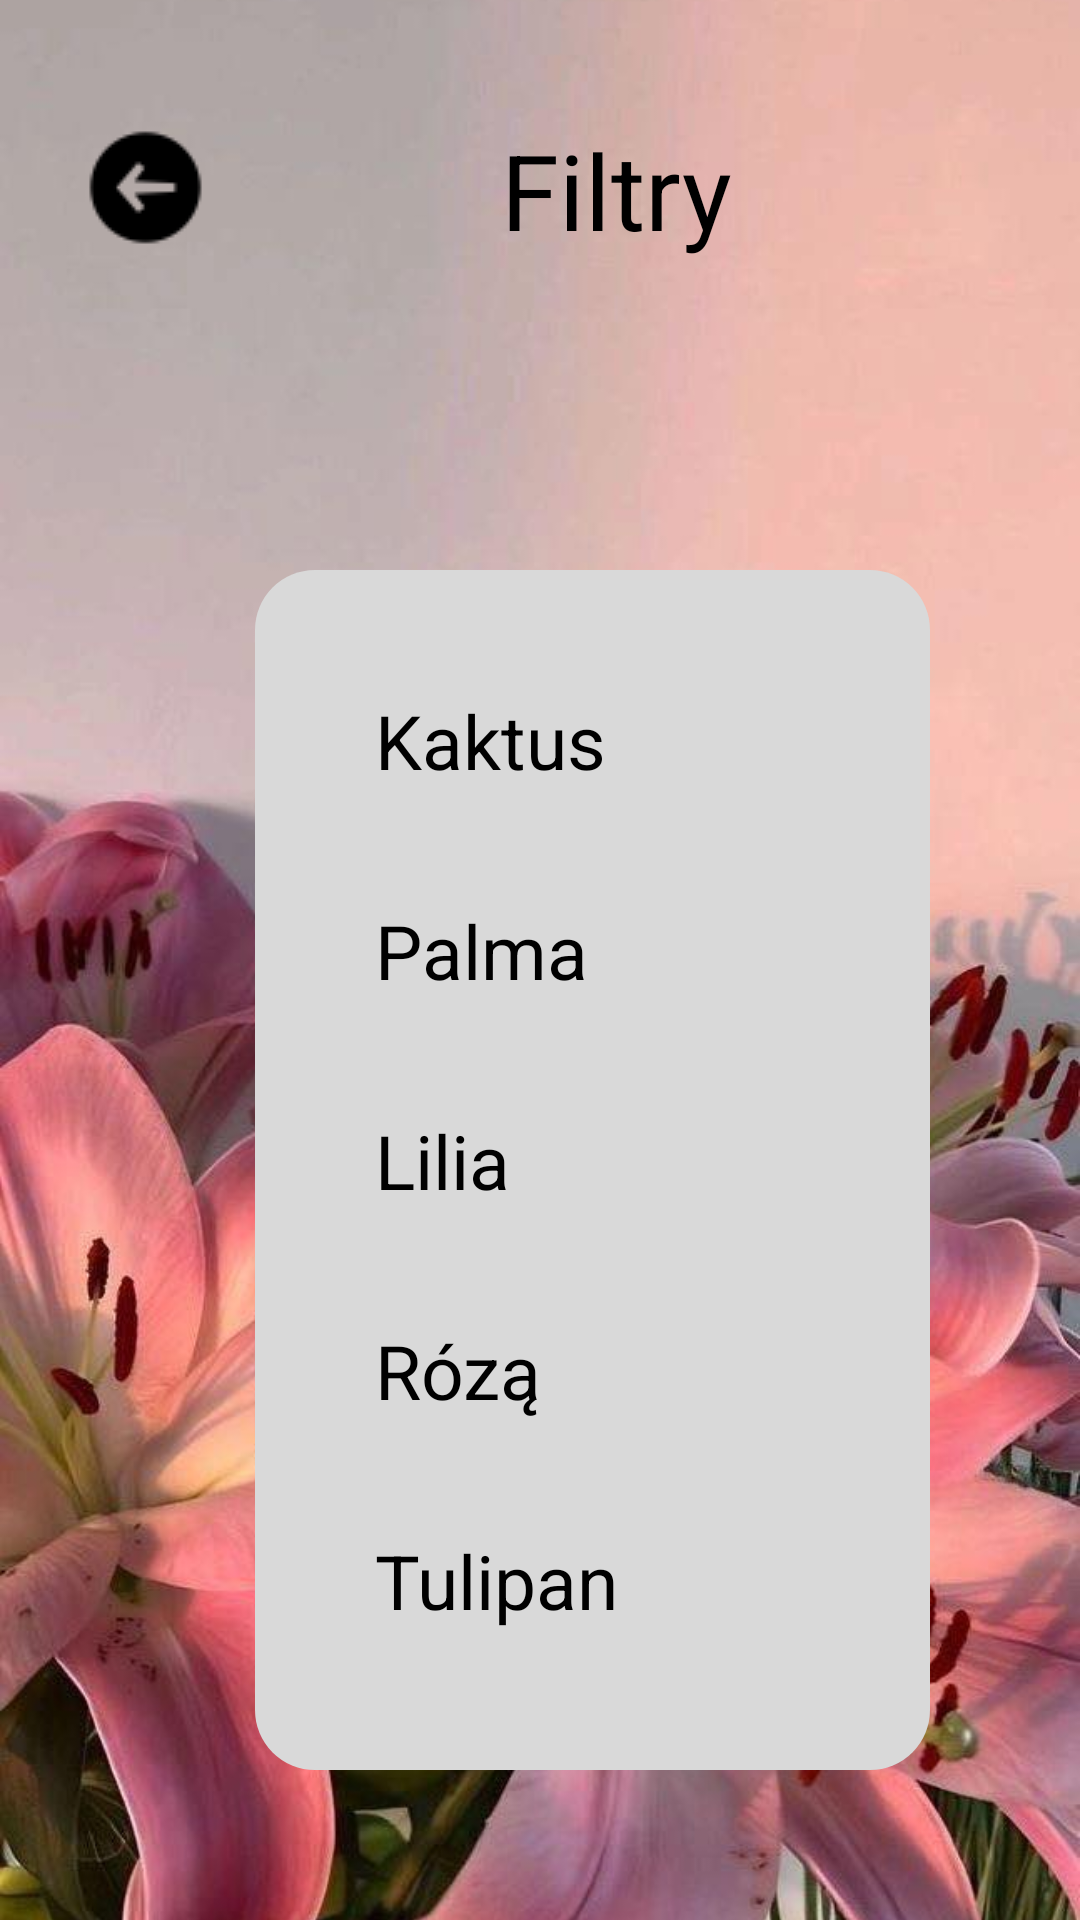

Where icons sit on this 1080x1920 app screen, as {"left": x1, "top": y1, "right": x2, "bottom": y2}:
Powrót do poprzedniej karty!: {"left": 89, "top": 131, "right": 202, "bottom": 244}
